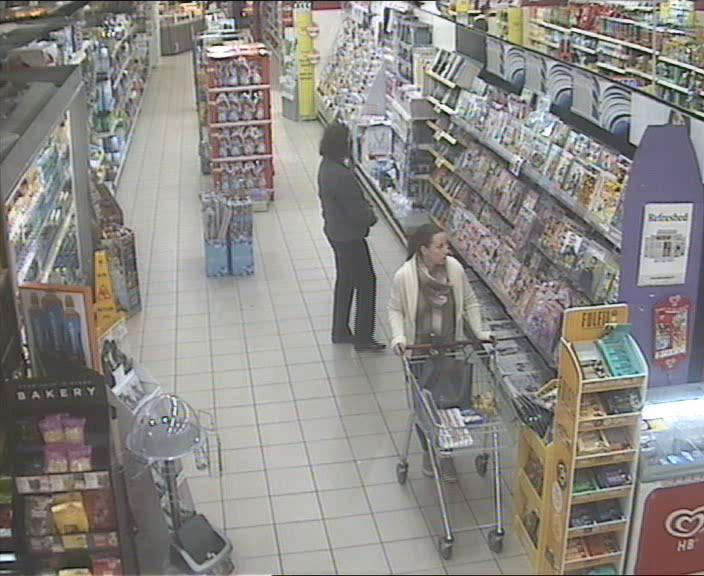backpack-or-handbag: (422, 349, 473, 408)
filled-trolly: (394, 341, 519, 558)
person-with-basket-trolly-and-backpack-handbag: (389, 225, 519, 557)
